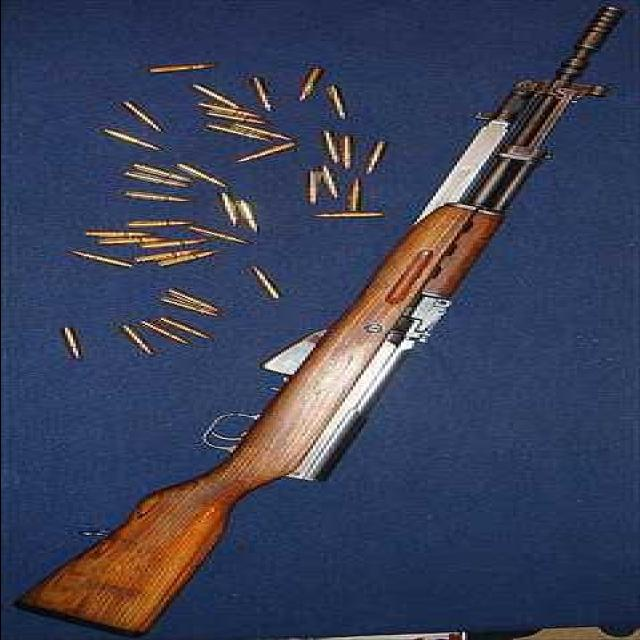heavyweapon: (4, 10, 640, 637)
